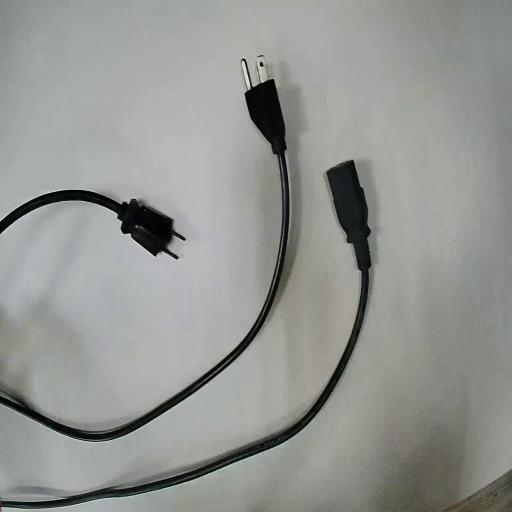wire: (0, 161, 370, 506), (0, 80, 288, 439), (0, 191, 182, 256)
